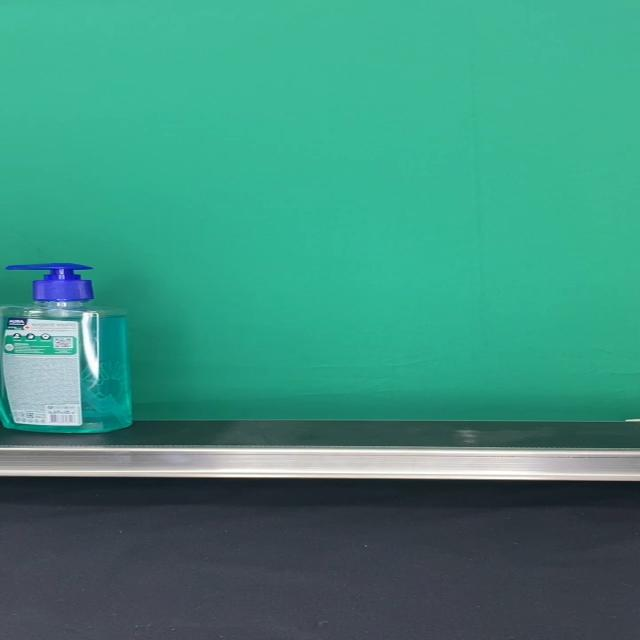Bottle: (0, 262, 133, 433)
Cap: (3, 262, 94, 302)
